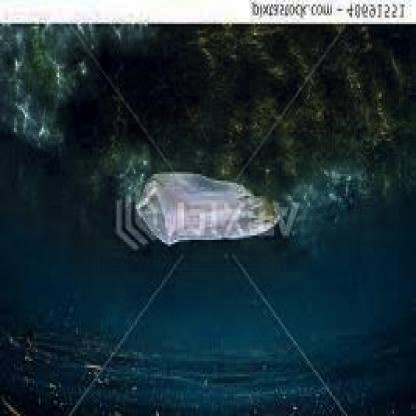pbag: (136, 170, 286, 248)
